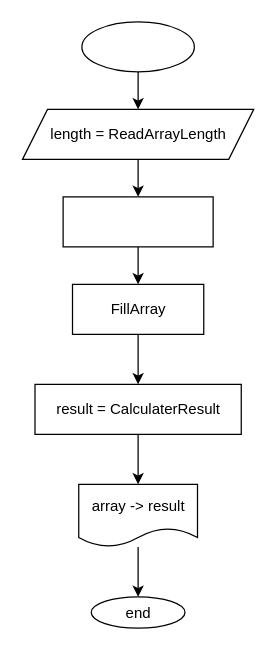
Image size: 275x650. Some labels were removed from this diagram. Each missing label, with the centre of its shape:
"array = CreateArray" goes at point 137,221.
"Start" goes at point 137,46.
